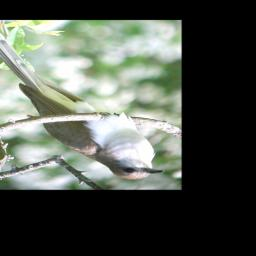Cuckoo: (0, 26, 164, 180)
